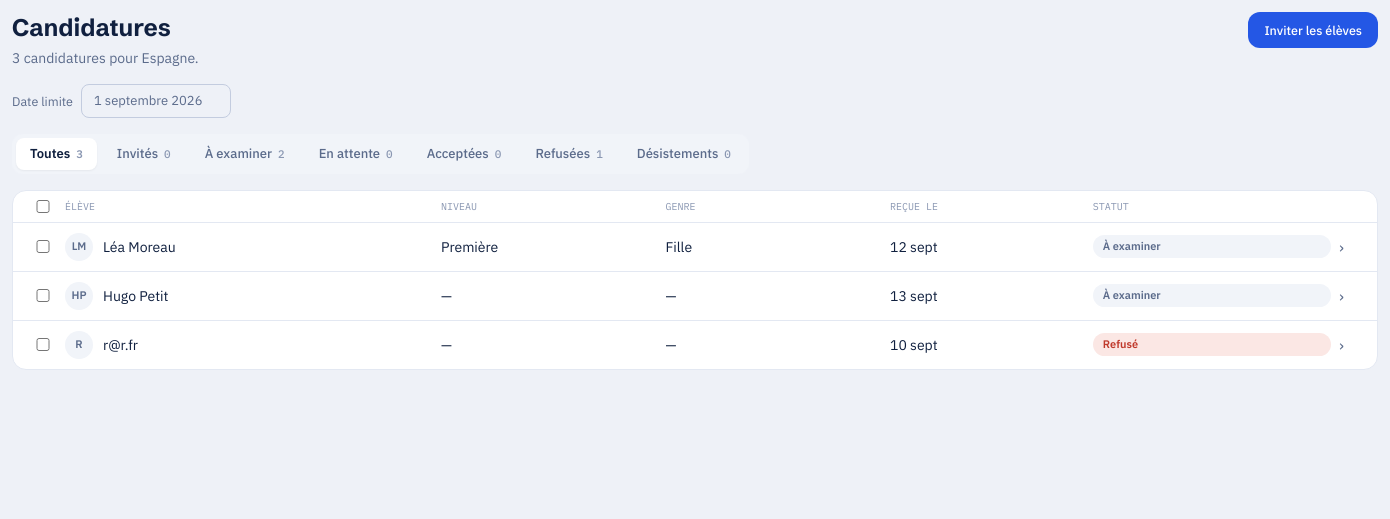
Test: CandidaturesView › reports a blocked batch once, with the missing values
Step 1. Click the checkbox next to "LM" → (43, 246), box [29,240,57,253]
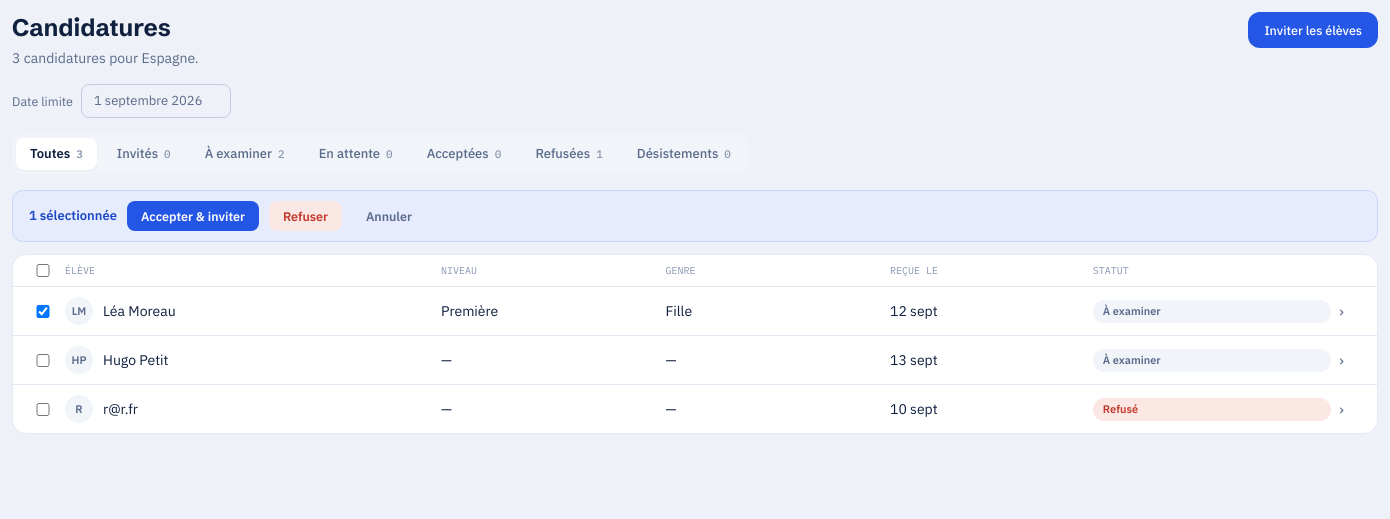
Step 2. Click the checkbox next to "HP" → (43, 360), box [29,354,57,367]
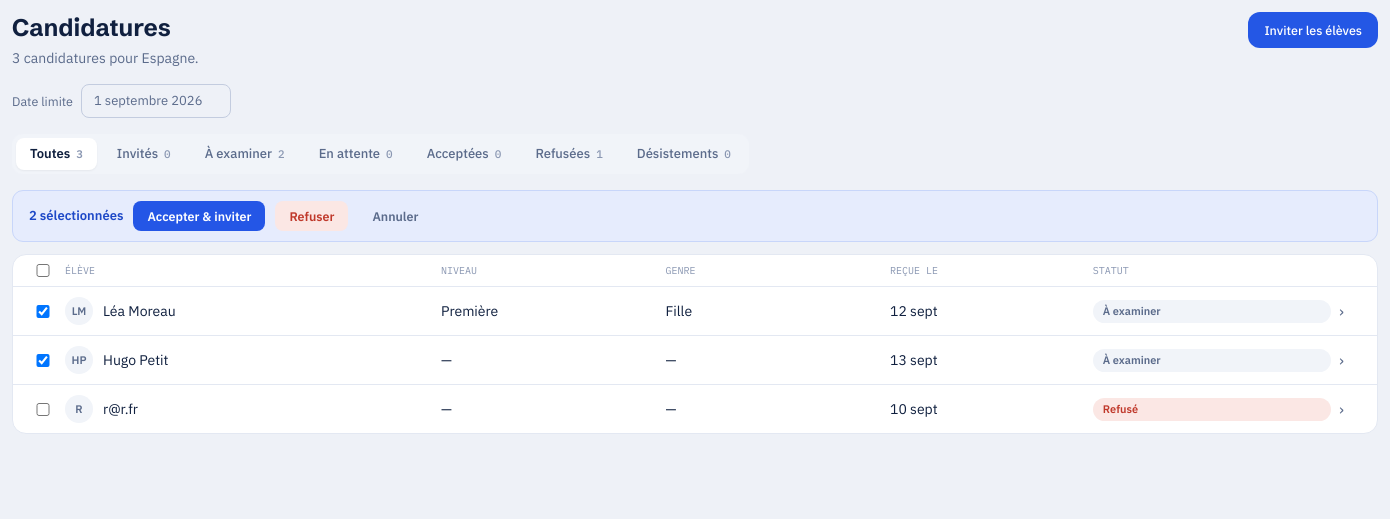
Step 3. Click the button "Accepter & inviter" → (199, 216), box [133,200,265,231]
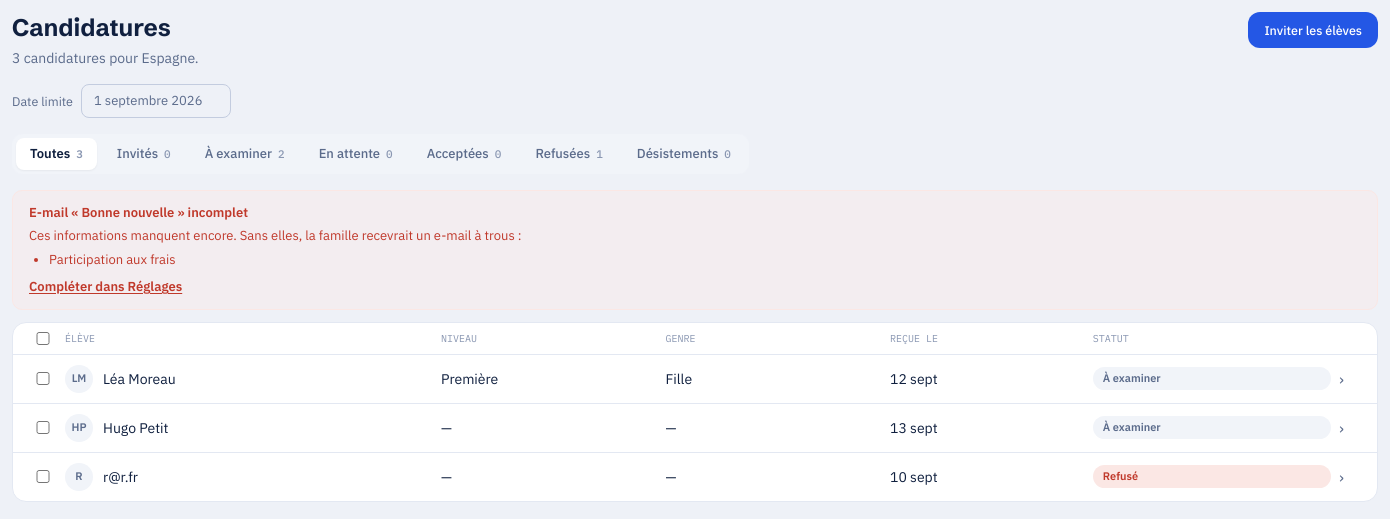
Expected: the text "E-mail « Bonne nouvelle » incomplet" is shown, [29,204,248,220]
Expected: the list item "Participation aux frais" is shown, [49,250,176,268]
